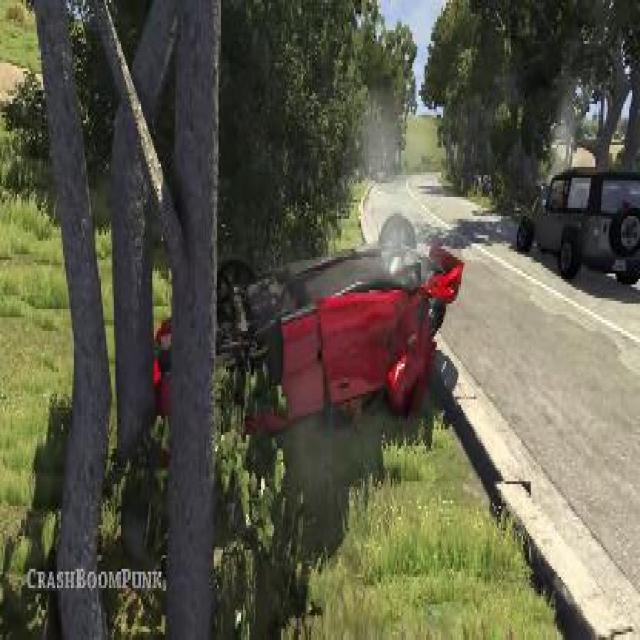accident: (138, 202, 471, 446)
